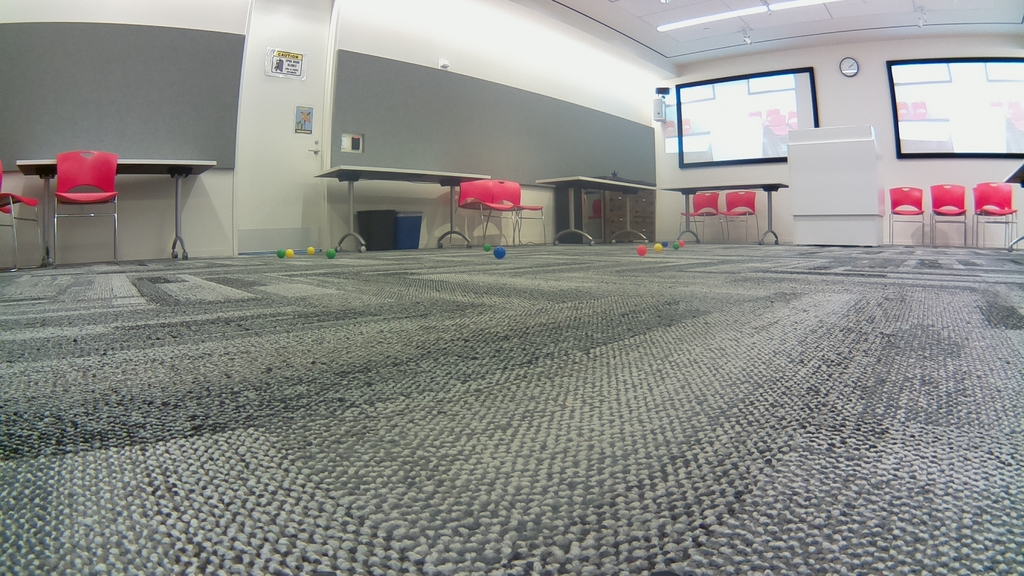ball: (493, 245, 504, 258)
